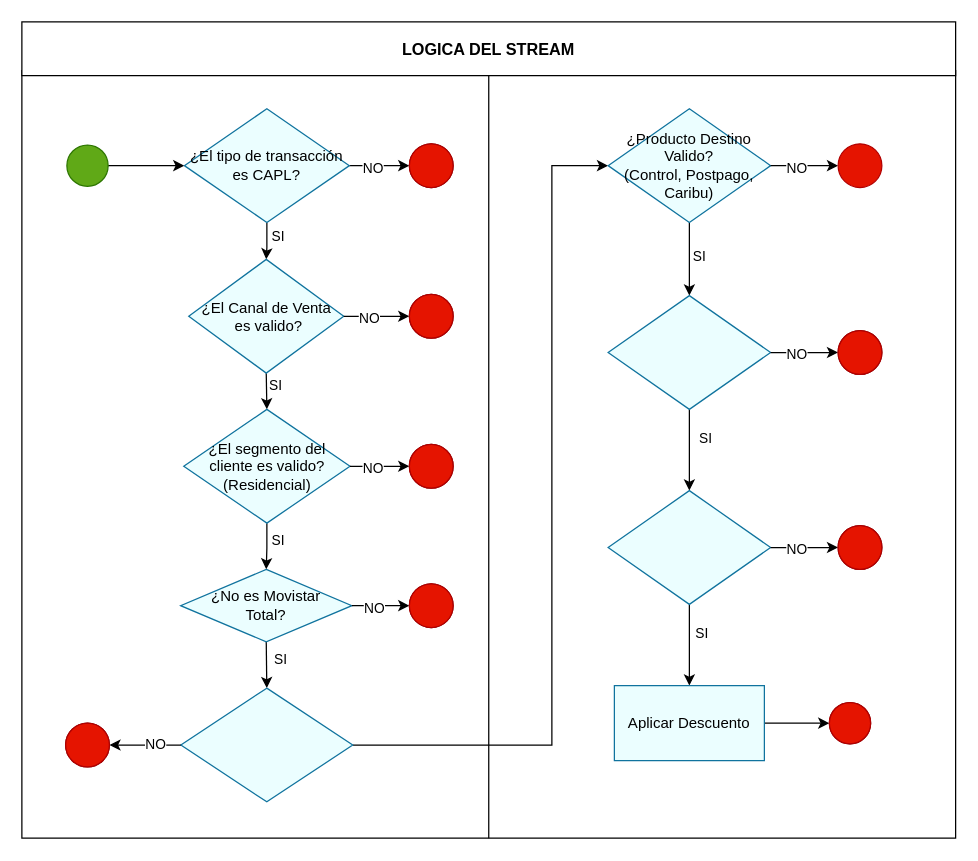
The diagram is 978 pixels wide and 861 high, and some of its shapes have lost their labels. Here are the shapes that lost their labels. From the top down, the box of each, then its label:
(607, 294, 771, 409): ¿CF Origen Valido? (Lista de Rangos)
(607, 489, 771, 604): ¿CF Destino Valido? (Lista de Rangos)
(180, 687, 353, 802): ¿Producto Origen Valido? (Control, Postpago, Caribu)
